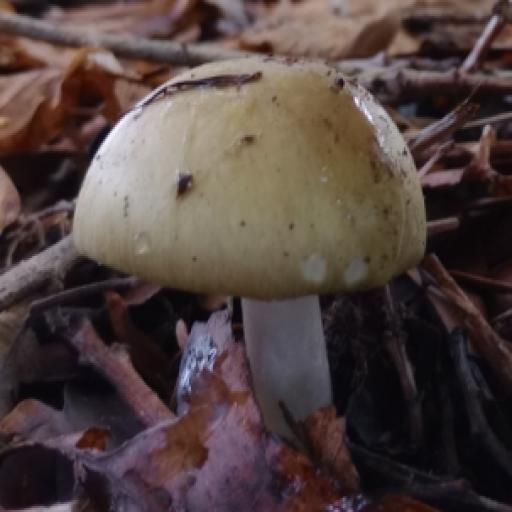mushroom: (30, 0, 501, 449)
